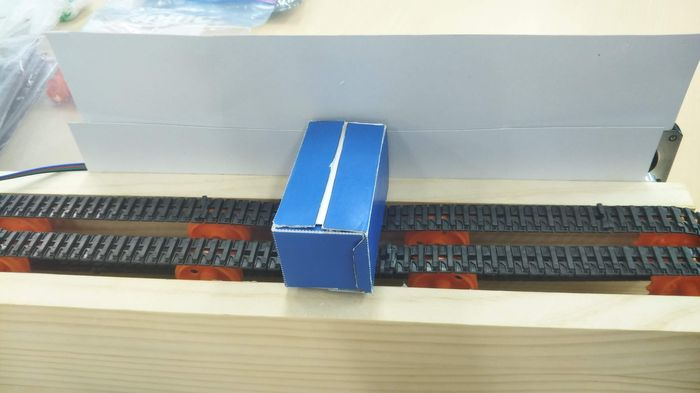box3: (265, 114, 397, 296)
